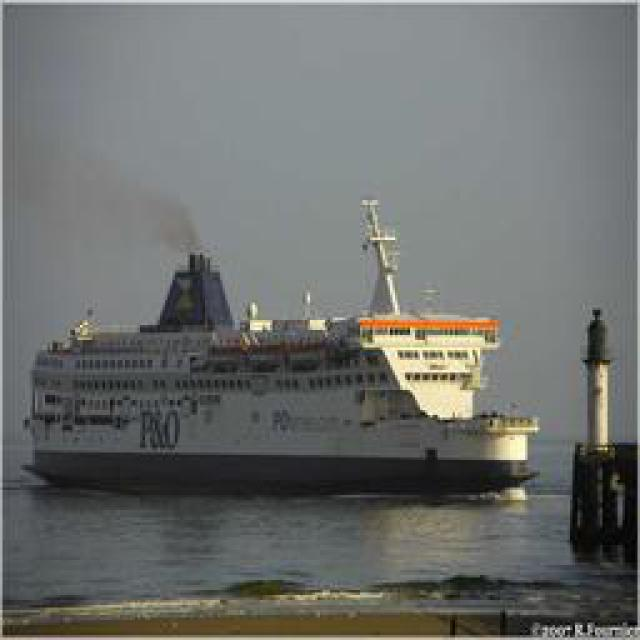Ship: (24, 210, 549, 483)
